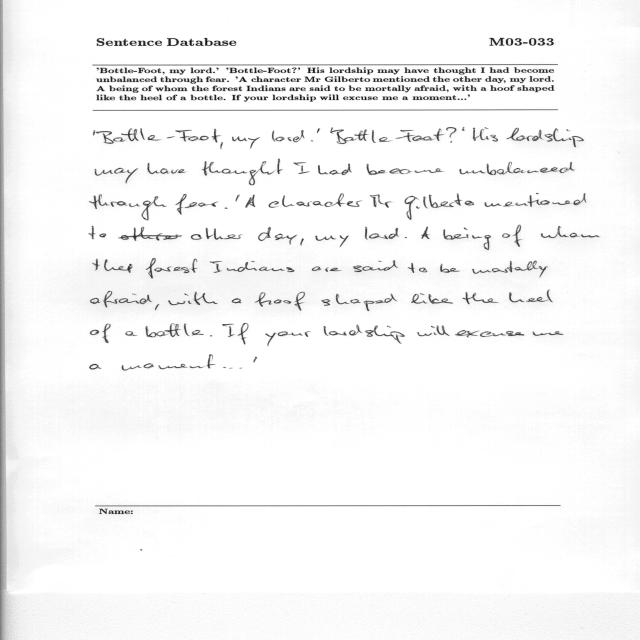word: (96, 128, 223, 149), (89, 194, 167, 221), (202, 159, 282, 185), (405, 193, 474, 220), (118, 227, 242, 241), (323, 325, 405, 344), (459, 162, 575, 175), (122, 355, 216, 371), (507, 128, 584, 147), (485, 193, 586, 207), (269, 193, 362, 208), (355, 128, 445, 143), (472, 261, 548, 278), (321, 294, 397, 311), (443, 228, 491, 250), (146, 259, 198, 279), (210, 261, 295, 273), (90, 291, 152, 307), (254, 292, 305, 311), (176, 194, 219, 215), (367, 164, 443, 175), (145, 324, 204, 338), (258, 227, 298, 245), (541, 226, 600, 238), (265, 332, 311, 347), (168, 292, 218, 305), (95, 168, 138, 183), (222, 323, 249, 345), (93, 259, 133, 273), (353, 260, 398, 272), (509, 290, 553, 302), (455, 330, 524, 337), (411, 293, 453, 304), (330, 127, 357, 144), (365, 227, 399, 240), (502, 225, 522, 247), (463, 292, 499, 304), (148, 163, 186, 174), (90, 324, 111, 343), (272, 130, 304, 142), (473, 127, 498, 142), (318, 164, 352, 175), (315, 236, 349, 247), (417, 326, 450, 337), (370, 194, 392, 208), (89, 226, 106, 239), (293, 162, 310, 174), (408, 263, 427, 273), (440, 264, 460, 273), (312, 266, 341, 272), (446, 127, 456, 143), (533, 331, 563, 336), (248, 137, 260, 149), (246, 195, 256, 208), (422, 227, 430, 239), (232, 137, 247, 142), (90, 364, 102, 370), (125, 331, 137, 336), (232, 299, 242, 304), (223, 367, 242, 369), (236, 195, 240, 202), (300, 239, 304, 246), (155, 304, 159, 310), (254, 357, 257, 363), (317, 128, 320, 133), (462, 127, 465, 131), (94, 131, 96, 136), (225, 207, 228, 209), (210, 335, 213, 337), (311, 140, 313, 142), (405, 237, 407, 238)
